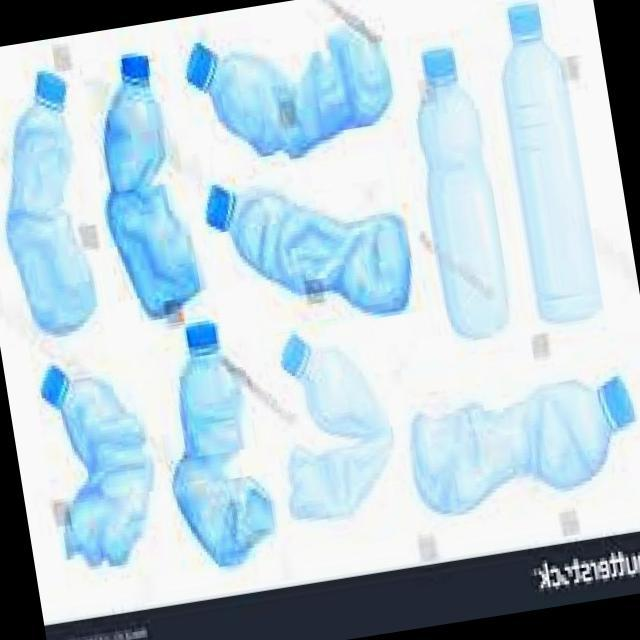defected: (388, 338, 640, 545), (200, 152, 422, 343), (177, 0, 407, 180), (144, 314, 280, 574), (80, 52, 206, 332), (0, 60, 112, 349), (31, 349, 168, 577), (258, 319, 403, 532)
good: (476, 0, 609, 337), (398, 32, 526, 358)
